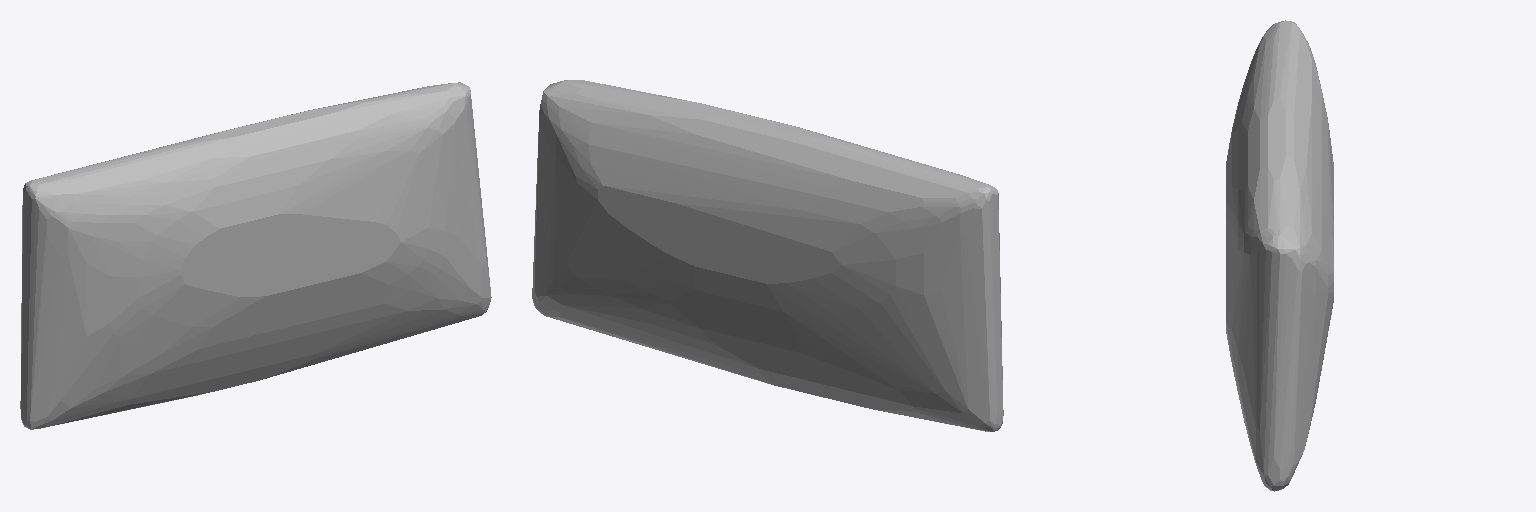
URDF robot description (root):
<?xml version="1.0"?>
<robot name="root">
  <link name="base_link">
    <visual>
      <origin xyz="0 0 0" rpy="0 0 0" />
      <geometry>
        <mesh filename="../meshes/unidex_core_pillow-757be11305637a815b68a464a9cbfadf_010.obj" scale="1.0000E+00 1.0000E+00 1.0000E+00" />
      </geometry>
      <material name="">
        <color rgba="7.50E-01 7.50E-01 7.50E-01 1" />
      </material>
    </visual>
    <collision>
      <origin xyz="0 0 0" rpy="0 0 0" />
      <geometry>
        <mesh filename="../meshes/unidex_core_pillow-757be11305637a815b68a464a9cbfadf_010.obj" scale="1.0000E+00 1.0000E+00 1.0000E+00" />
      </geometry>
    </collision>
  </link>
</robot>

--- What the picture shows (computed from the rendered views, not written in the file) ---
3 views of the same robot in one strip: view 1: azimuth 30°, elevation 25°; view 2: azimuth 150°, elevation 25°; view 3: azimuth 270°, elevation 25° (orthographic).
Robot: root — 1 links, 0 joints (none); root link base_link; default pose: all joints at 0.
Visible links, largest first — view 1: base_link; view 2: base_link; view 3: base_link.
Boxes of the visible links, <box> form: base_link: <box>20,82,491,429</box>; base_link: <box>532,80,1003,431</box>; base_link: <box>1226,20,1333,491</box>.
Size in the robot's own frame: 0.1775 by 0.0347 by 0.0926 metres.
Meshes: 1 distinct files referenced, 1 mesh visuals loaded (1 OBJ).
